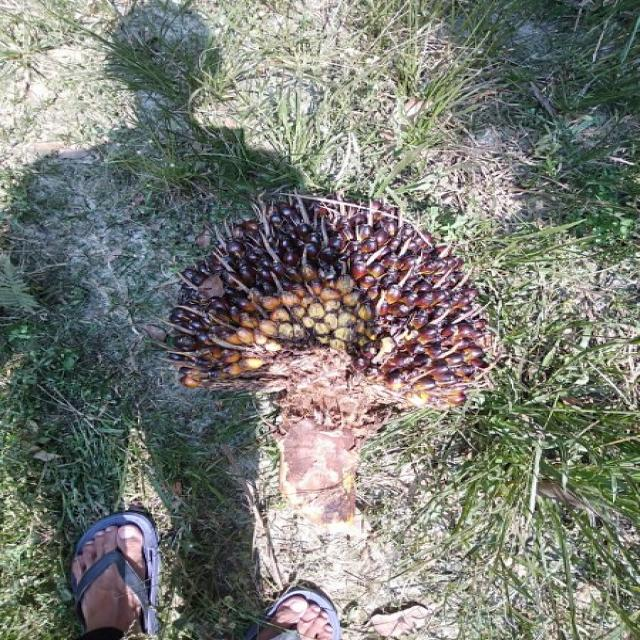fraksi 00: (185, 196, 480, 414)
